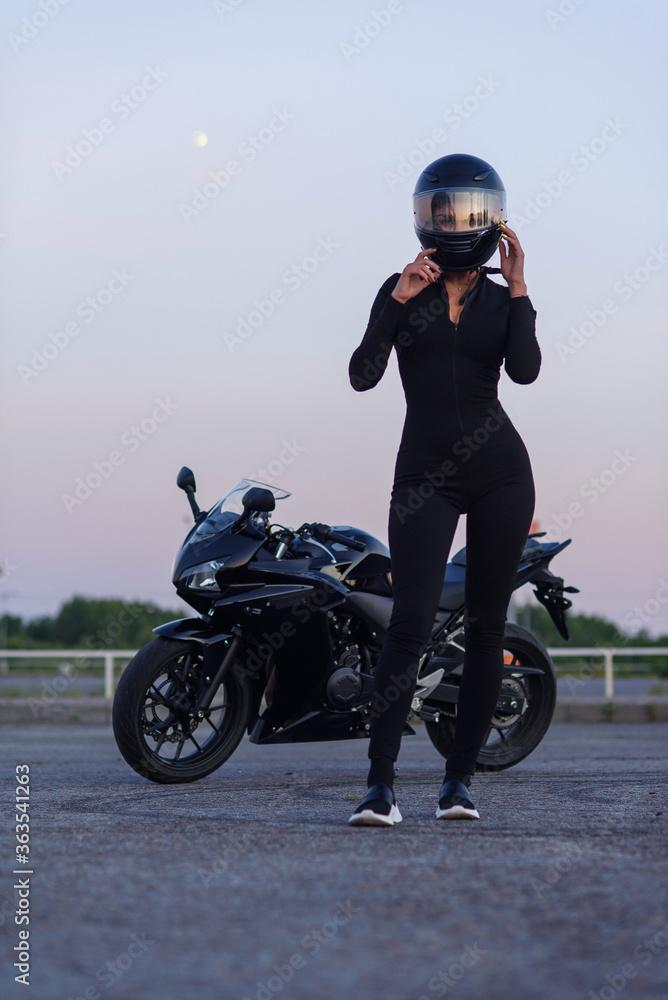helmet: (412, 152, 508, 273)
